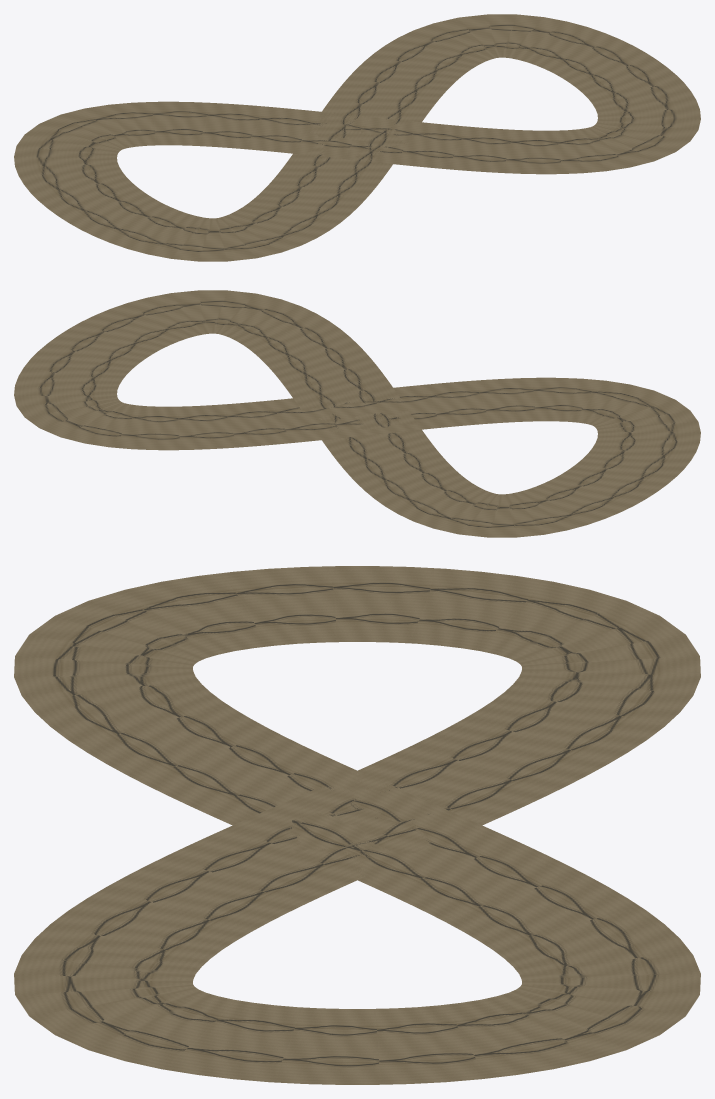
Rendered from drift-eight-road-lod.obj.
3 views of the same model, one above another, from view 1: azimuth 30°, elevation 25°; view 2: azimuth 150°, elevation 25°; view 3: azimuth 270°, elevation 25° (orthographic). The views are drawn at different scales.
Visible parts, largest first — view 1: road; view 2: road; view 3: road.
Boxes of the visible parts, x1=… form: road: x1=14, y1=14, x2=700, y2=261; road: x1=14, y1=290, x2=700, y2=537; road: x1=14, y1=566, x2=700, y2=1084.
Bounding box in the file's own units: 81.94 × 0.00114 × 45.85.
1 material, 1 textured.
